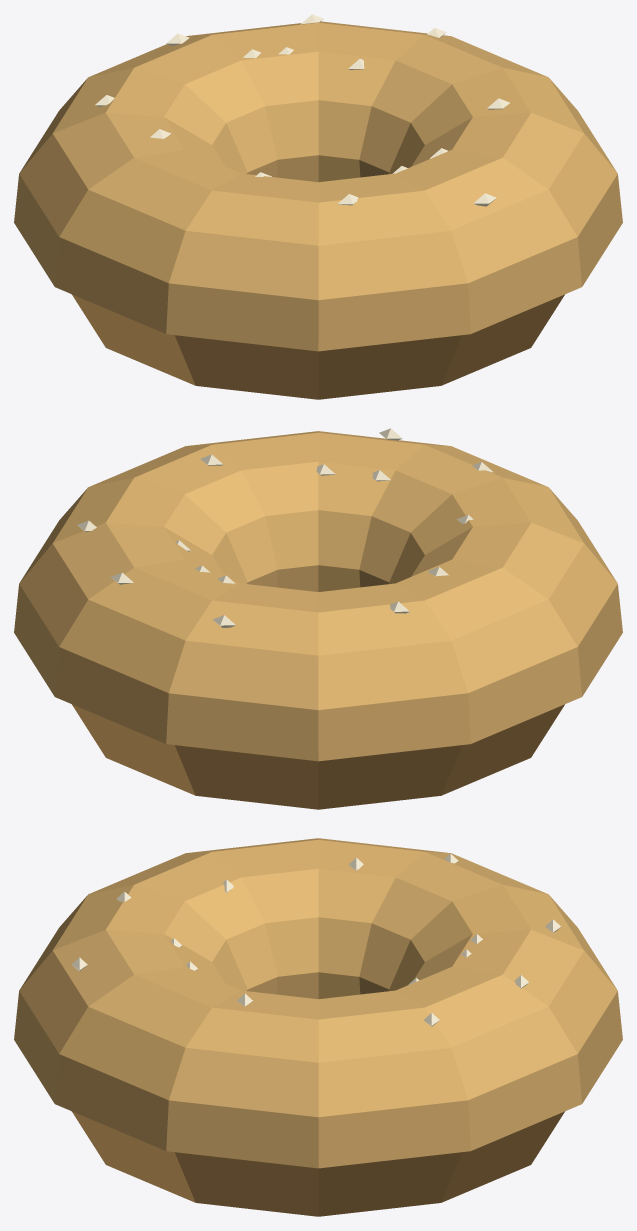
Rendered from Food_Bagel.obj.
3 renders of one model, top to bottom at view 1: azimuth 30°, elevation 25°; view 2: azimuth 150°, elevation 25°; view 3: azimuth 270°, elevation 25°, orthographic.
Size of the model in its own units: 2.21 by 0.7588 by 2.21.
